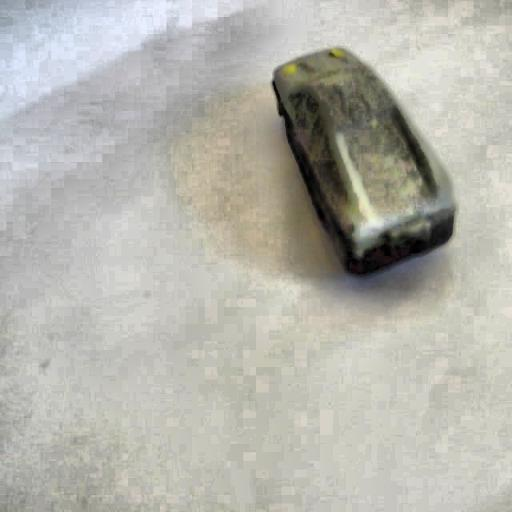normal_car: (265, 43, 459, 282)
